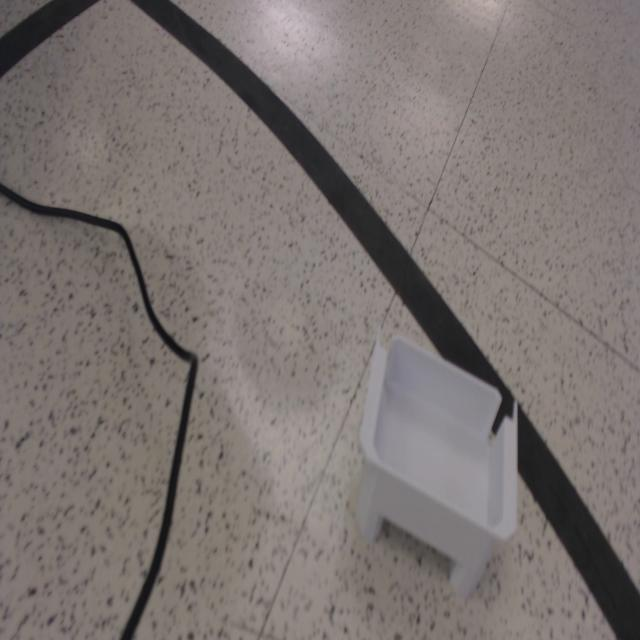wbox: (354, 324, 520, 600)
